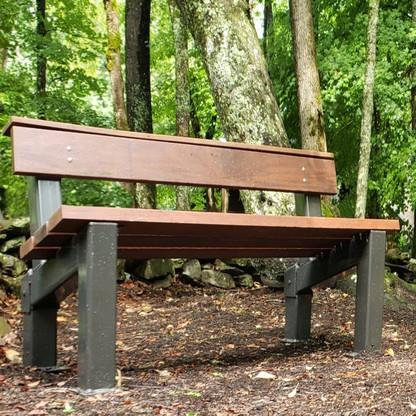obstacle: (12, 97, 399, 373)
